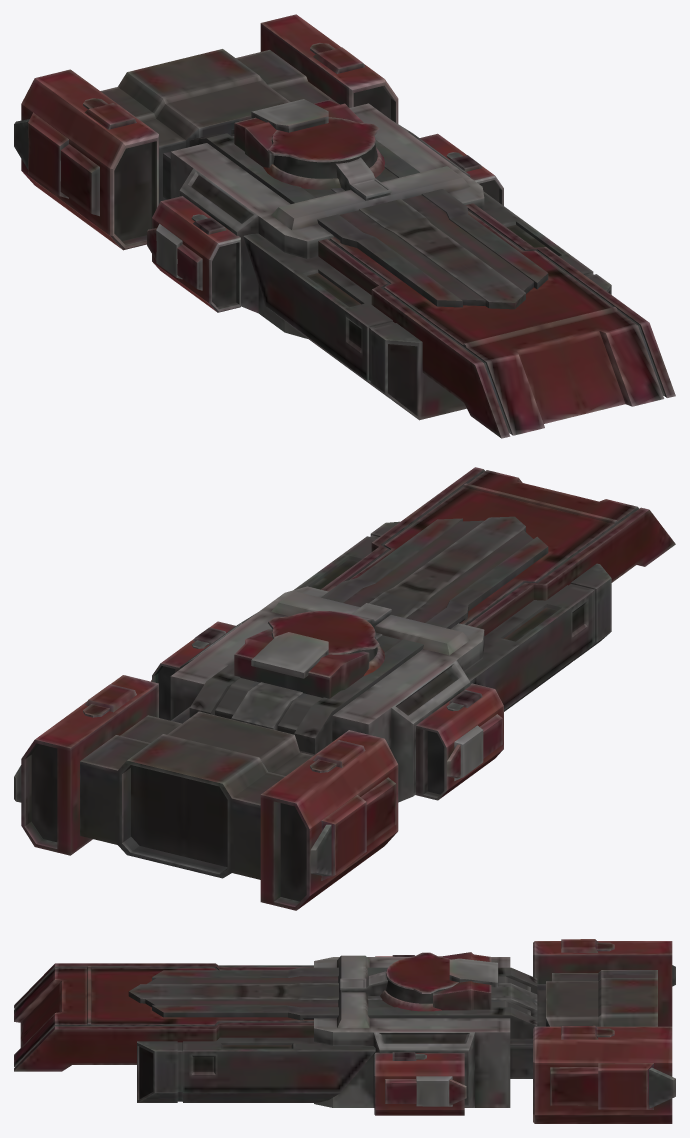
The model's file is ship_imperial.glb.
3 renders of one model, top to bottom at view 1: azimuth 30°, elevation 25°; view 2: azimuth 150°, elevation 25°; view 3: azimuth 270°, elevation 25°, orthographic. The views are drawn at different scales.
Parts seen in each view (by area): view 1: Imperial; view 2: Imperial; view 3: Imperial.
Part boxes in pixels (x1,y1,x2,y2): Imperial: [14, 14, 675, 438]; Imperial: [14, 467, 675, 910]; Imperial: [14, 939, 675, 1123].
Size of the model in its own units: 7.73 by 3.3 by 18.55.
Materials: 1 (1 with a texture image).
